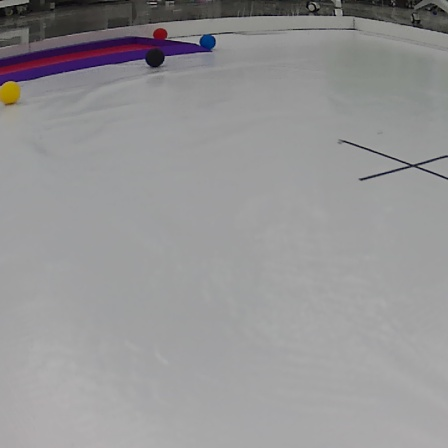black: (146, 46, 168, 69)
blue: (198, 33, 218, 50)
red: (151, 27, 172, 42)
red_aim: (0, 35, 212, 80)
yellow: (0, 83, 26, 106)
